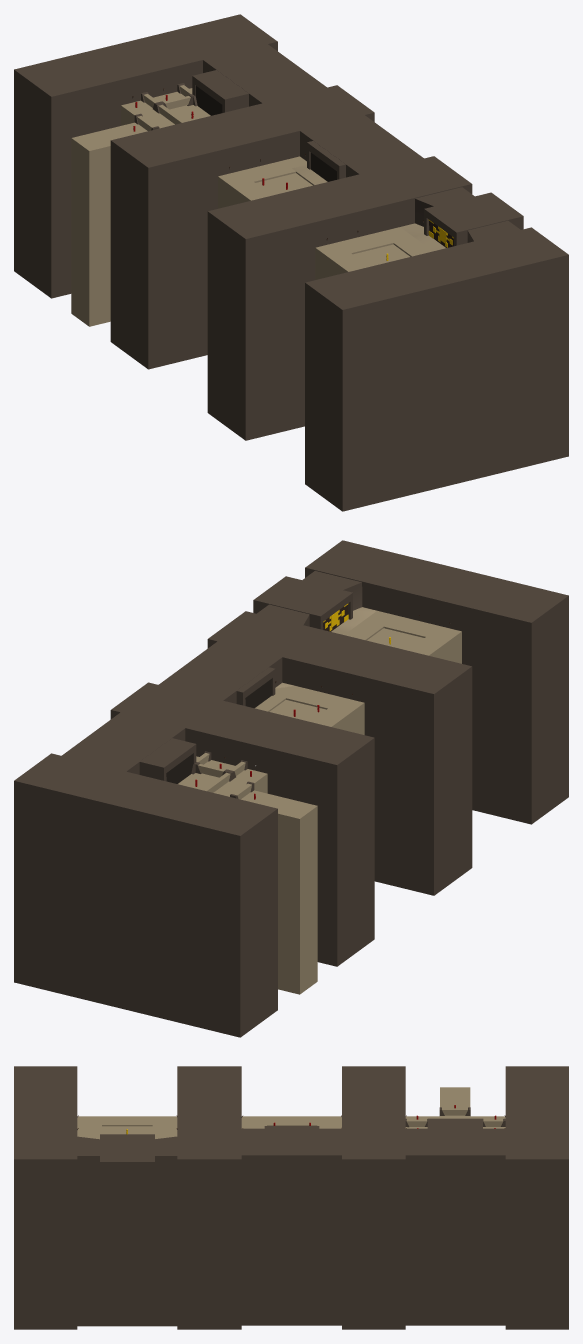
File: Temple3.FBX
The picture shows the model from 3 angles, top to bottom: view 1: azimuth 30°, elevation 25°; view 2: azimuth 150°, elevation 25°; view 3: azimuth 270°, elevation 25°; orthographic projection. The views are drawn at different scales.
Visible parts, largest first — view 1: Object085, Object036, Object006, Object081, Object068, Object070, Object005, Object037, Object069, Object088, Object071, Object087 (+4 smaller); view 2: Object036, Object085, Object070, Object068, Object005, Object037, Object006, Object069, Object081, Object088, Object071, Object087 (+3 smaller); view 3: Object069, Object037, Object085, Object036, Object006, Object070, Object084, Object068, Object081, Object071, Object088, Object005 (+2 smaller).
Part boxes in pixels (left/top/right/bottom): Object085: left=305, top=227, right=568, bottom=511; Object036: left=14, top=14, right=277, bottom=298; Object006: left=111, top=85, right=374, bottom=369; Object081: left=208, top=175, right=472, bottom=440; Object068: left=110, top=85, right=373, bottom=368; Object070: left=207, top=156, right=468, bottom=439; Object005: left=71, top=88, right=210, bottom=326; Object037: left=168, top=18, right=362, bottom=128; Object069: left=270, top=94, right=459, bottom=200; Object088: left=315, top=227, right=432, bottom=279; Object071: left=424, top=192, right=523, bottom=246; Object087: left=218, top=156, right=306, bottom=208; Object036: left=14, top=753, right=277, bottom=1037; Object085: left=305, top=540, right=568, bottom=824; Object070: left=207, top=611, right=471, bottom=895; Object068: left=110, top=702, right=374, bottom=966; Object005: left=178, top=756, right=317, bottom=994; Object037: left=26, top=686, right=220, bottom=797; Object006: left=111, top=682, right=374, bottom=764; Object069: left=157, top=615, right=317, bottom=726; Object081: left=245, top=611, right=472, bottom=894; Object088: left=344, top=610, right=461, bottom=663; Object071: left=253, top=576, right=352, bottom=629; Object087: left=255, top=686, right=364, bottom=734; Object069: left=181, top=1128, right=401, bottom=1325; Object037: left=353, top=1128, right=565, bottom=1325; Object085: left=14, top=1066, right=77, bottom=1329; Object036: left=505, top=1066, right=568, bottom=1329; Object006: left=342, top=1066, right=405, bottom=1329; Object070: left=178, top=1066, right=241, bottom=1329; Object084: left=77, top=1136, right=177, bottom=1326; Object068: left=342, top=1066, right=405, bottom=1329; Object081: left=177, top=1066, right=240, bottom=1329; Object071: left=100, top=1134, right=154, bottom=1184; Object088: left=77, top=1116, right=177, bottom=1139; Object005: left=405, top=1087, right=505, bottom=1128.
Size of the model in its own units: 270 by 224 by 658.
